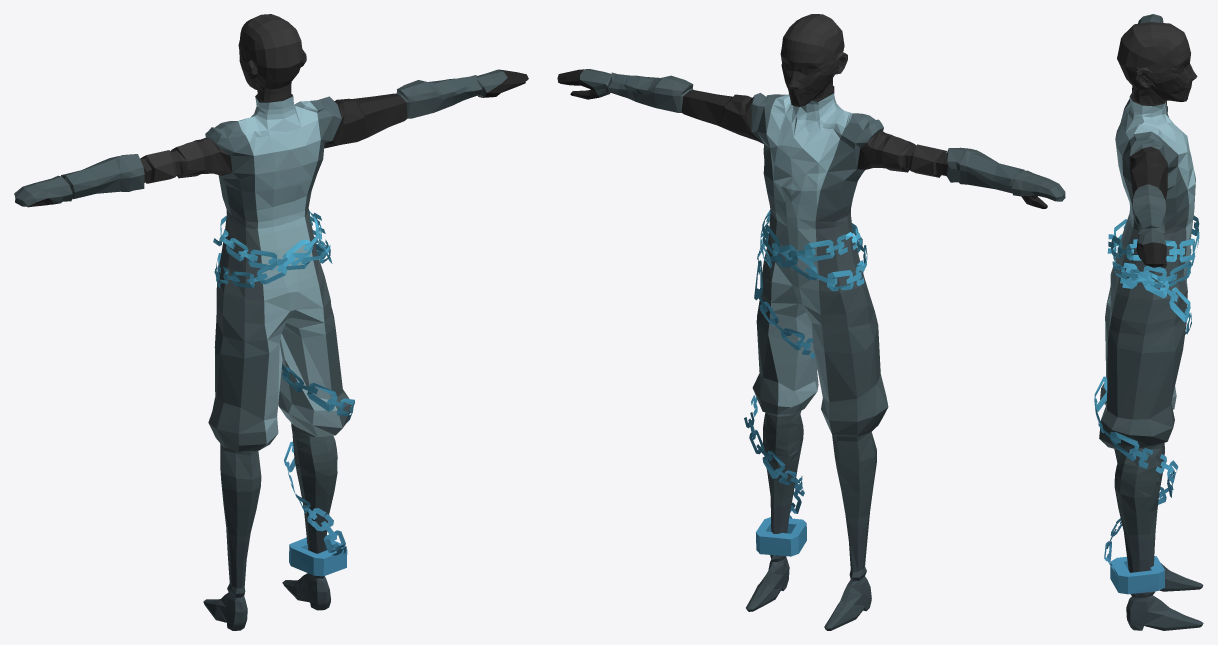
Rendered from CharSkyNPC_Body_AP11Narcissist.glb.
3 renders of one model, left to right at view 1: azimuth 30°, elevation 25°; view 2: azimuth 150°, elevation 25°; view 3: azimuth 270°, elevation 25°, orthographic.
Visible parts, largest first — view 1: CharSkyNPC_Body_AP11Narcissist; view 2: CharSkyNPC_Body_AP11Narcissist; view 3: CharSkyNPC_Body_AP11Narcissist.
Part boxes in pixels (box(x1,y1,x2,y2)): CharSkyNPC_Body_AP11Narcissist: box(14, 14, 528, 630); CharSkyNPC_Body_AP11Narcissist: box(557, 14, 1065, 630); CharSkyNPC_Body_AP11Narcissist: box(1094, 14, 1203, 630).
Size of the model in its own units: 13.64 by 15.12 by 2.57.
1 material, 1 textured.
